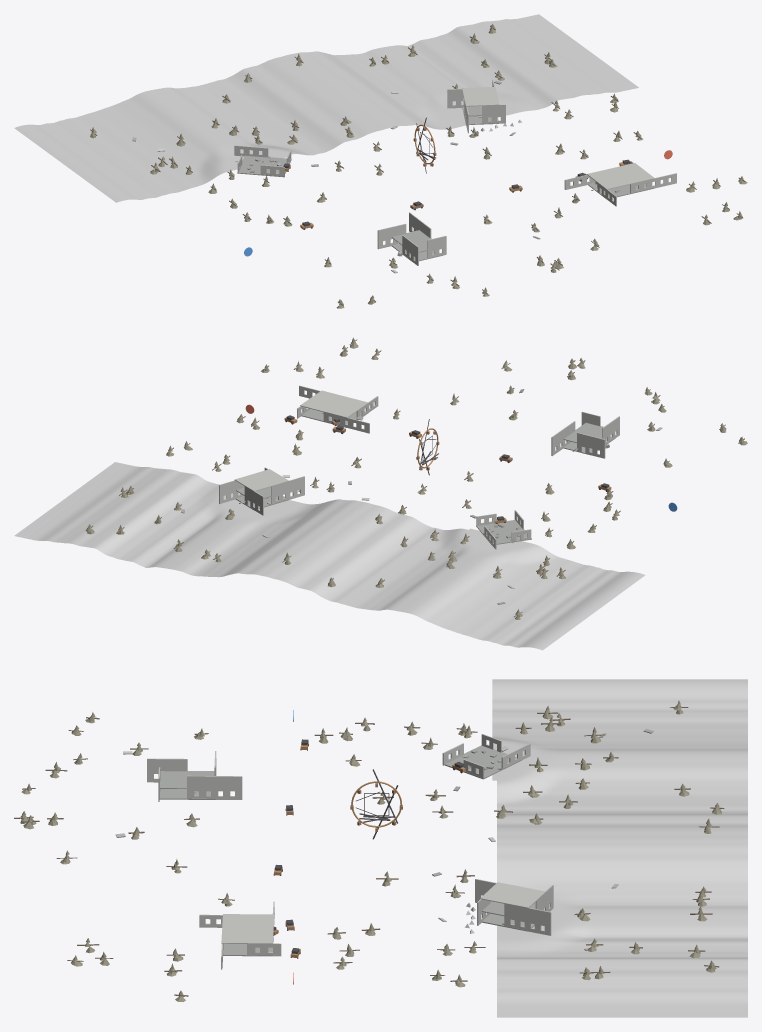
The model's file is chernobyl_pvp_map.glb.
3 renders of one model, top to bottom at view 1: azimuth 30°, elevation 25°; view 2: azimuth 150°, elevation 25°; view 3: azimuth 270°, elevation 25°, orthographic. The views are drawn at different scales.
Visible parts, largest first — view 1: terrain, concrete, deadwood, concrete_dark, bark; view 2: terrain, concrete, deadwood, concrete_dark, bark, darkmetal; view 3: terrain, concrete, deadwood, concrete_dark, bark, darkmetal.
Part boxes in pixels (left/top/right/bottom): terrain: left=14, top=14, right=638, bottom=202; concrete: left=157, top=79, right=676, bottom=273; deadwood: left=90, top=24, right=747, bottom=308; concrete_dark: left=132, top=80, right=654, bottom=262; bark: left=90, top=25, right=745, bottom=305; terrain: left=14, top=462, right=645, bottom=650; concrete: left=219, top=385, right=662, bottom=588; deadwood: left=86, top=337, right=747, bottom=619; concrete_dark: left=181, top=389, right=615, bottom=604; bark: left=86, top=339, right=744, bottom=616; darkmetal: left=285, top=415, right=609, bottom=523; terrain: left=492, top=679, right=747, bottom=1017; concrete: left=123, top=733, right=618, bottom=969; deadwood: left=20, top=700, right=721, bottom=1001; concrete_dark: left=115, top=728, right=653, bottom=956; bark: left=14, top=707, right=724, bottom=996; darkmetal: left=273, top=739, right=463, bottom=958.
Bounding box in the file's own units: 200 × 25.65 × 194.
